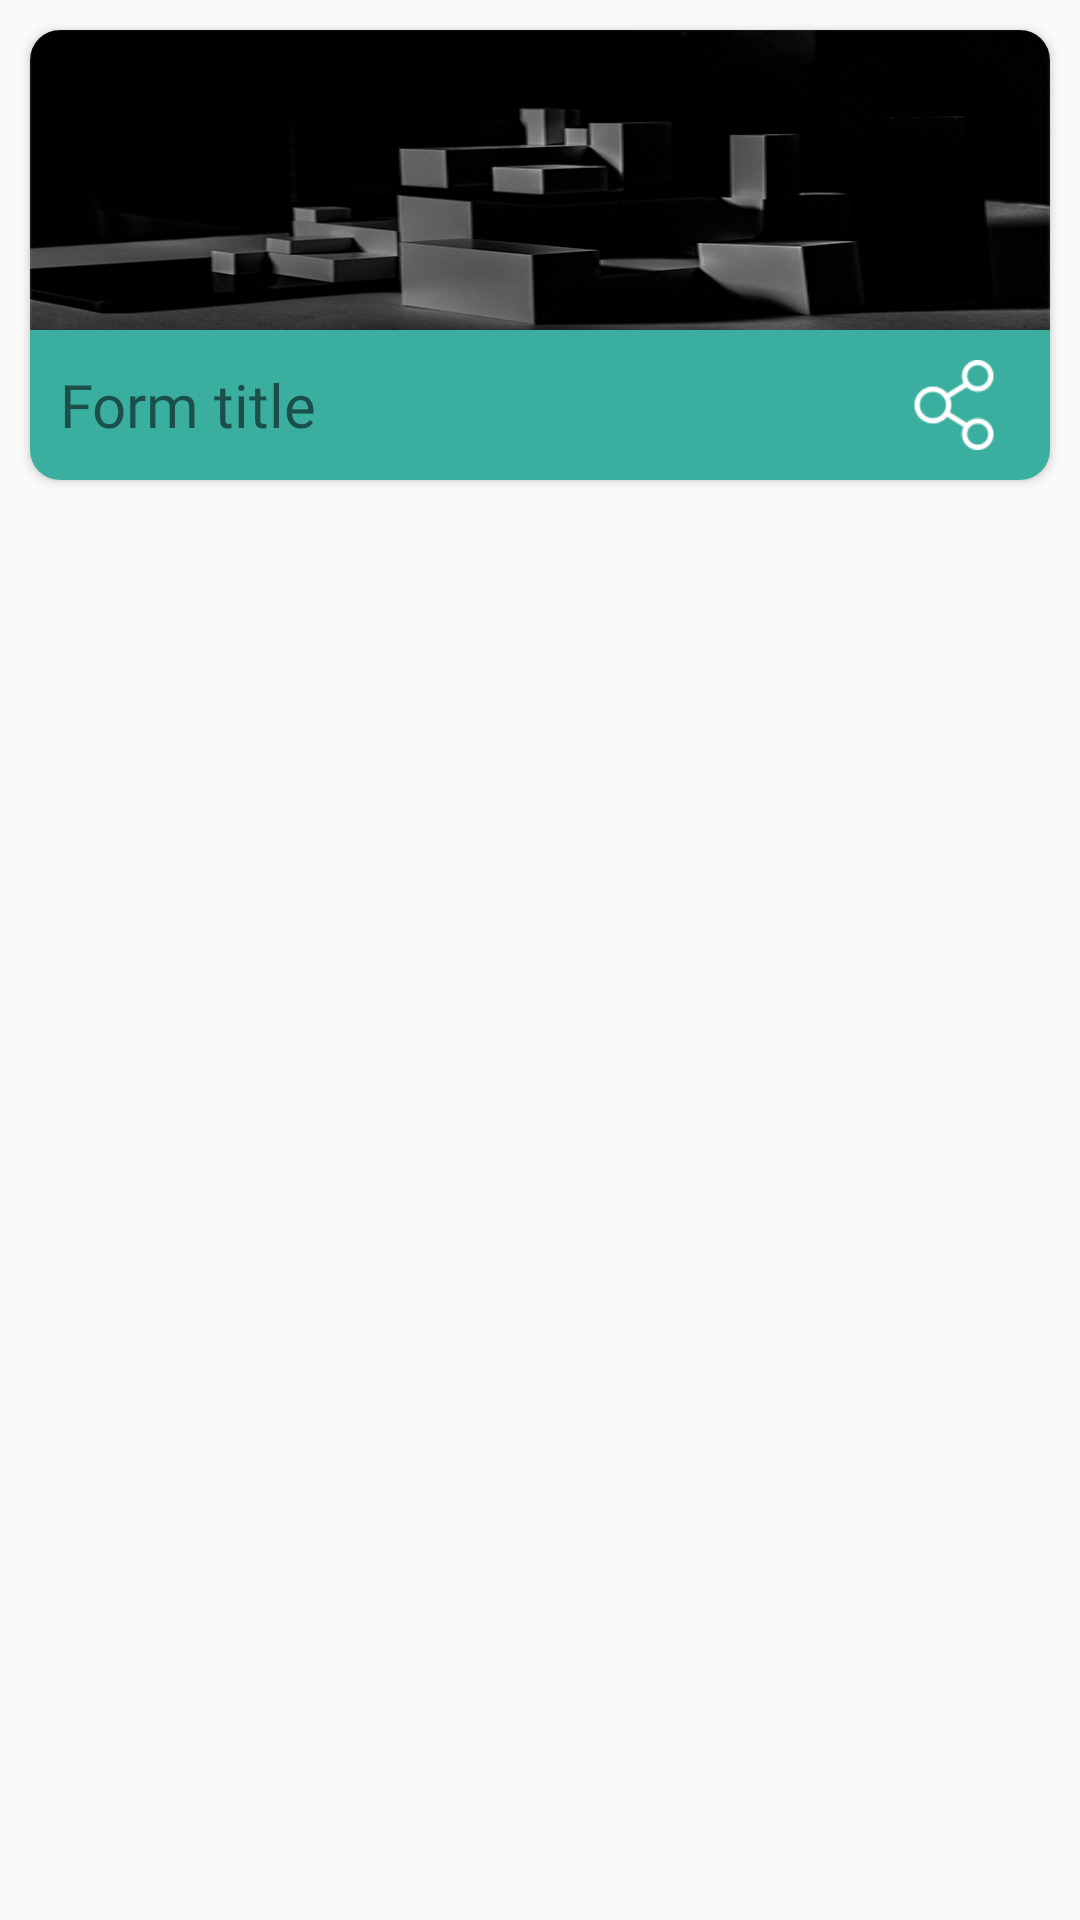

Named icons in this screenshot (1080×1920) and their bounding boxes, (x1, y1, x2, y2):
sharing: (914, 360, 994, 450)
